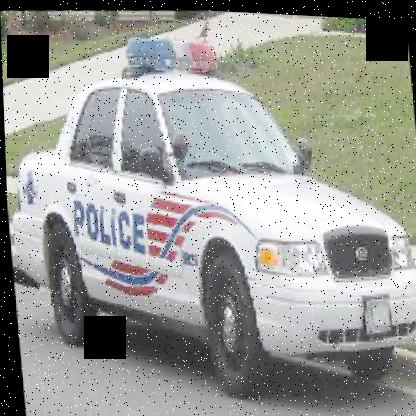emergency: (5, 10, 415, 407)
